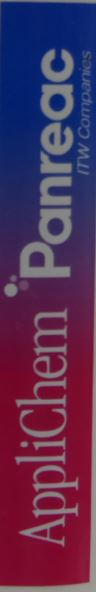ApplichemPanreac: (4, 45, 94, 545)
